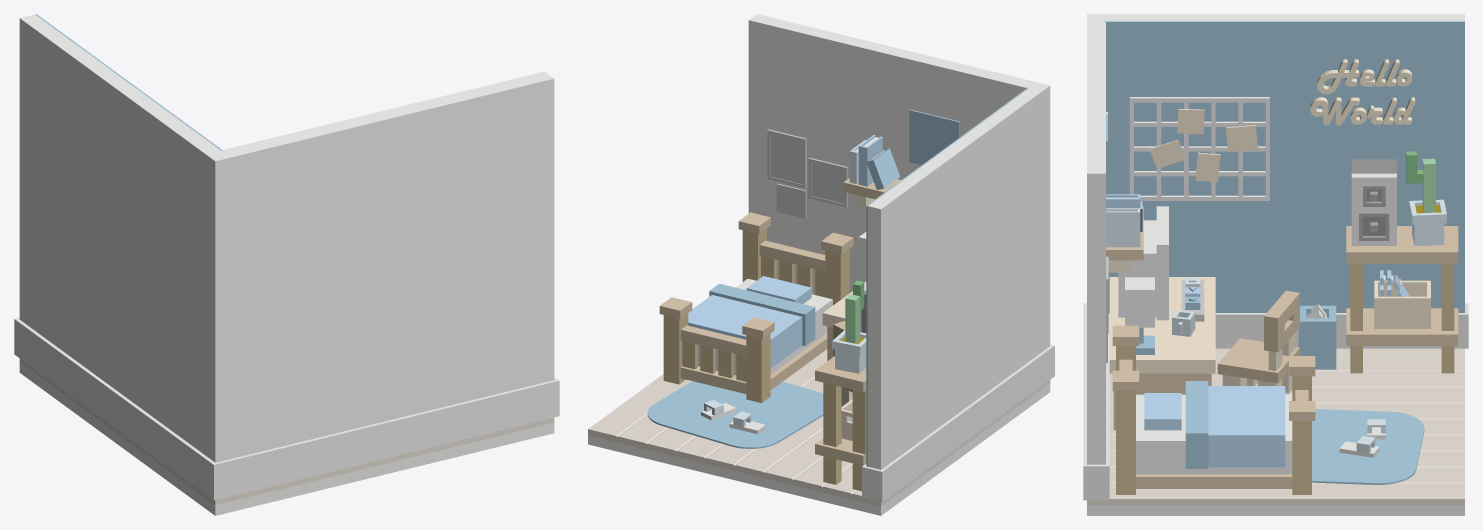
Rendered from room_v39.gltf.
3 renders of one model, left to right at view 1: azimuth 30°, elevation 25°; view 2: azimuth 150°, elevation 25°; view 3: azimuth 270°, elevation 25°, orthographic. The views are drawn at different scales.
Parts seen in each view (by area): view 1: wall_main, wall_bar, floor_main, floor_wood4; view 2: wall_main, wall_cover1, rug, wall_bar, floor_main, bed_bedding2, floor_wood9, image2, bed_bedding3, floor_wood1, table_bar2, bed_down2 (+36 smaller); view 3: wall_cover2, wall_main, rug, floor_wood9, bed_bedding2, memoboard.001, desk_top.001, wall_bar, floor_main, table_body2, floor_wood2, floor_wood8 (+47 smaller).
Boxes of the visible parts, x1,y1,x2,y2 form: wall_main: [19, 14, 554, 462]; wall_bar: [14, 317, 559, 500]; floor_main: [19, 362, 554, 515]; floor_wood4: [19, 358, 249, 505]; wall_main: [750, 14, 1050, 469]; wall_cover1: [748, 19, 1027, 294]; rug: [647, 381, 823, 448]; wall_bar: [862, 344, 1054, 502]; floor_main: [588, 383, 1050, 515]; bed_bedding2: [688, 295, 802, 368]; floor_wood9: [588, 374, 691, 442]; image2: [909, 109, 959, 165]; bed_bedding3: [709, 283, 815, 345]; floor_wood1: [734, 416, 823, 477]; table_bar2: [823, 382, 841, 484]; bed_down2: [746, 333, 770, 403]; wall_cover2: [1104, 21, 1464, 312]; wall_main: [1087, 14, 1464, 464]; rug: [1312, 409, 1424, 484]; floor_wood9: [1087, 483, 1464, 505]; bed_bedding2: [1208, 386, 1285, 467]; memoboard.001: [1129, 97, 1269, 200]; desk_top.001: [1109, 277, 1215, 373]; wall_bar: [1083, 303, 1468, 500]; floor_main: [1087, 505, 1464, 515]; table_body2: [1346, 226, 1458, 263]; floor_wood2: [1109, 371, 1464, 387]; floor_wood8: [1109, 387, 1464, 403].
Size of the model in its own units: 0.102 by 0.1 by 0.102.
